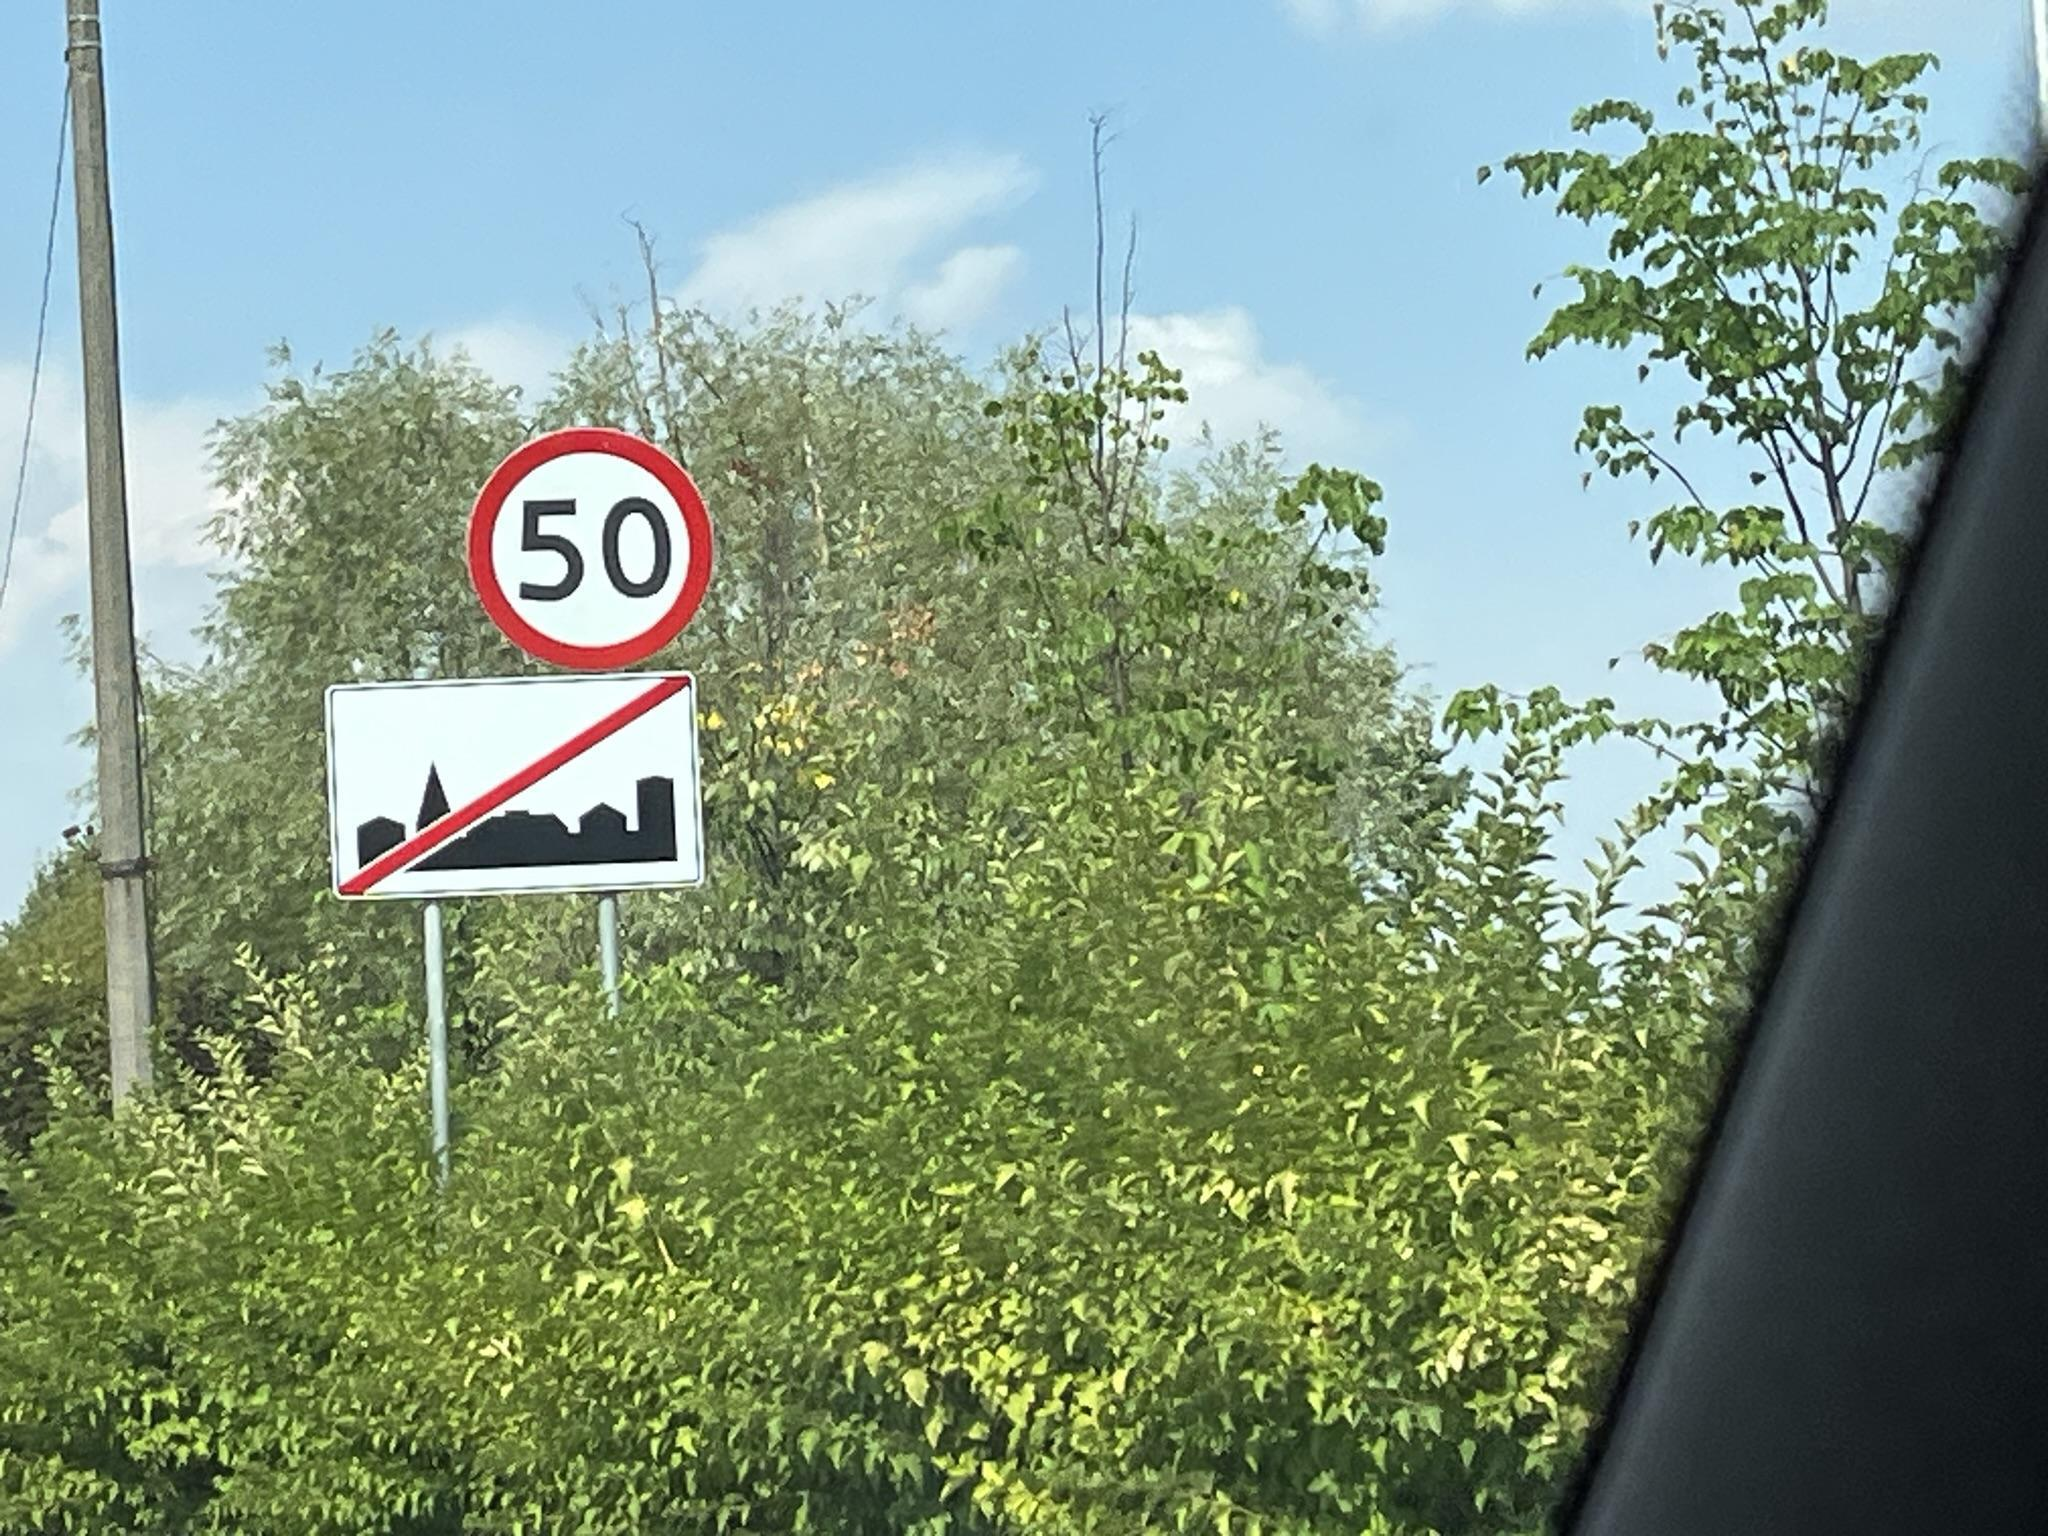information: (327, 684, 705, 891)
prohibitory: (464, 426, 716, 671)
